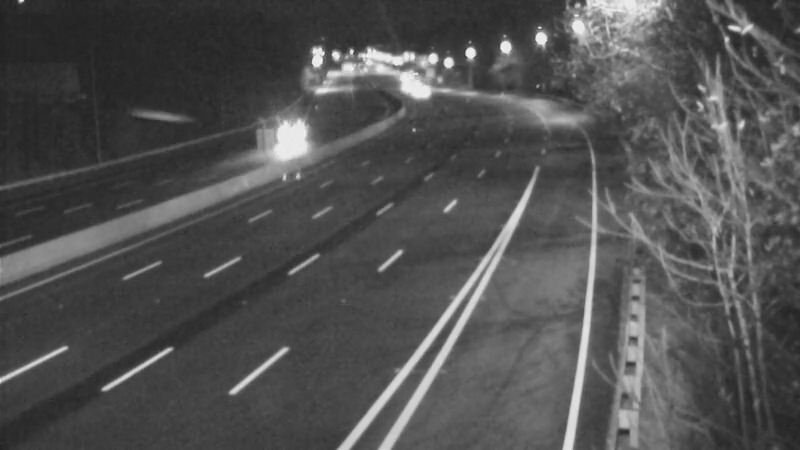vehicle: (381, 58, 431, 108), (394, 60, 444, 110), (394, 66, 444, 116), (269, 115, 319, 165)
